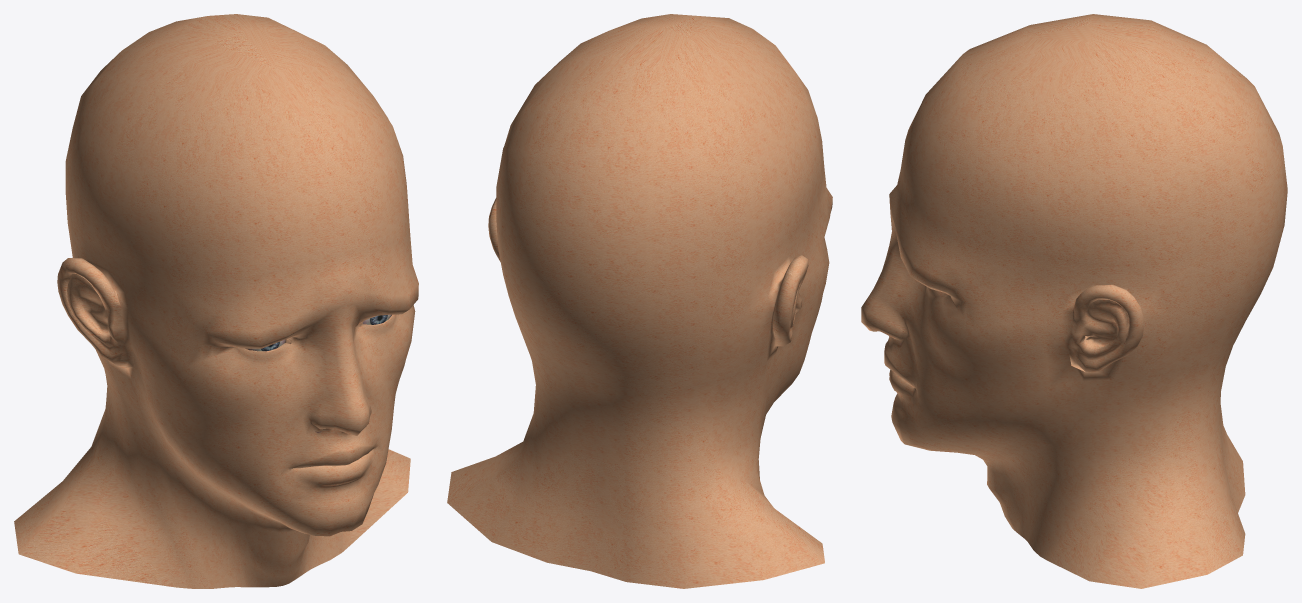
Rendered from sad_eye.FBX.
3 renders of one model, left to right at view 1: azimuth 30°, elevation 25°; view 2: azimuth 150°, elevation 25°; view 3: azimuth 270°, elevation 25°, orthographic. The views are drawn at different scales.
Parts seen in each view (by area): view 1: head; view 2: head; view 3: head.
Boxes of the visible parts, <box> form: head: <box>14,14,418,588</box>; head: <box>447,14,832,588</box>; head: <box>861,14,1287,588</box>.
Size of the model in its own units: 44.22 by 43.6 by 56.51.
Materials: 4 (2 with a texture image).
